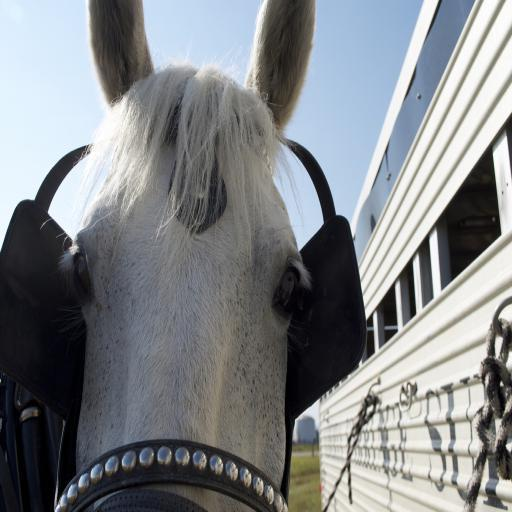horse: (55, 0, 316, 512)
